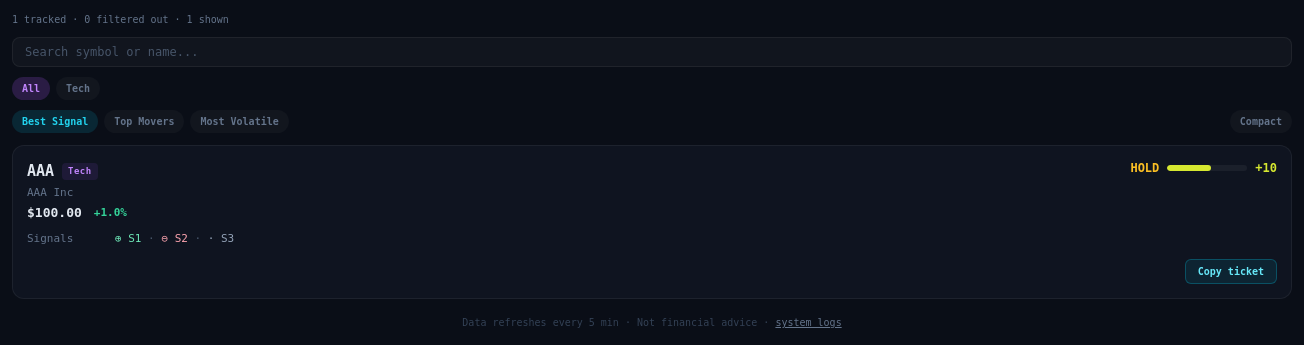
Test: ScannerView › view-mode toggle (Phase 14) › tolerates a localStorage setItem that throws (private mode)
Expected: the button "Copy ticket" is shown, [1185,259,1277,284]
Click toggles in-memory even though setItem throws.
Click the button "Compact".
click(1261, 122)  # box [1230,110,1292,133]
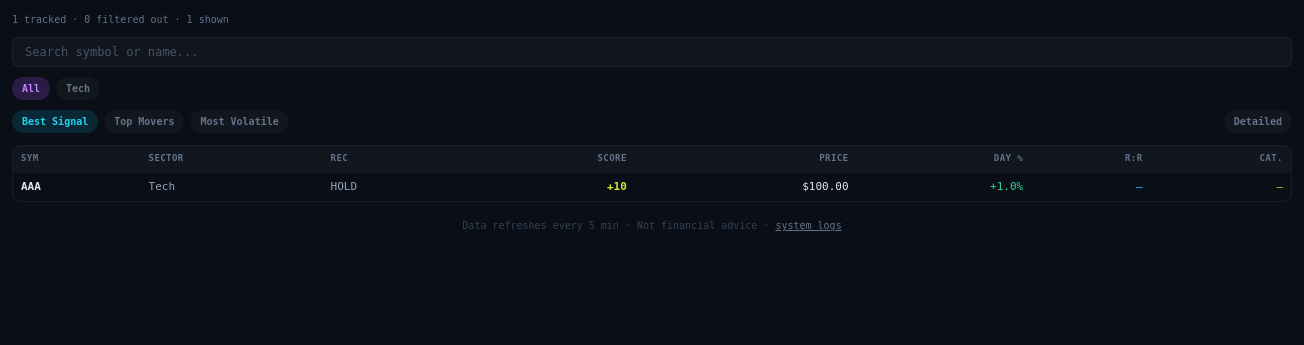
Expected: the button "Copy ticket" is gone
